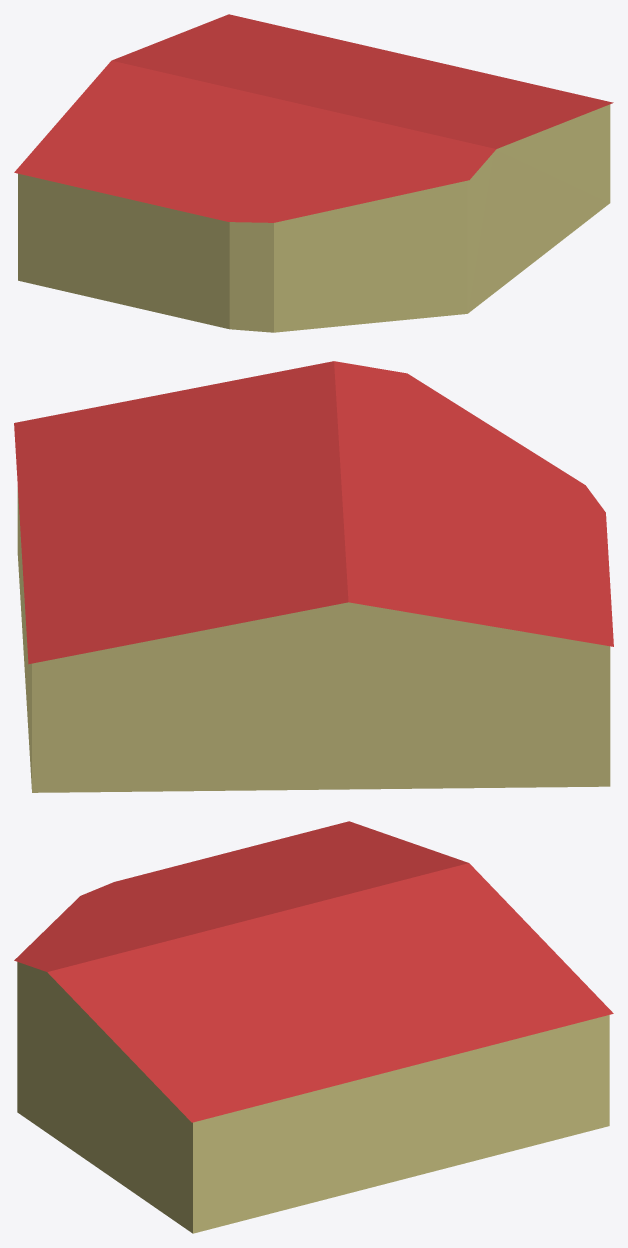
The picture shows the model from 3 angles, top to bottom: view 1: azimuth 30°, elevation 25°; view 2: azimuth 150°, elevation 25°; view 3: azimuth 270°, elevation 25°; orthographic projection. The views are drawn at different scales.
Bounding box in the file's own units: 54.2 × 47.06 × 14.15.
